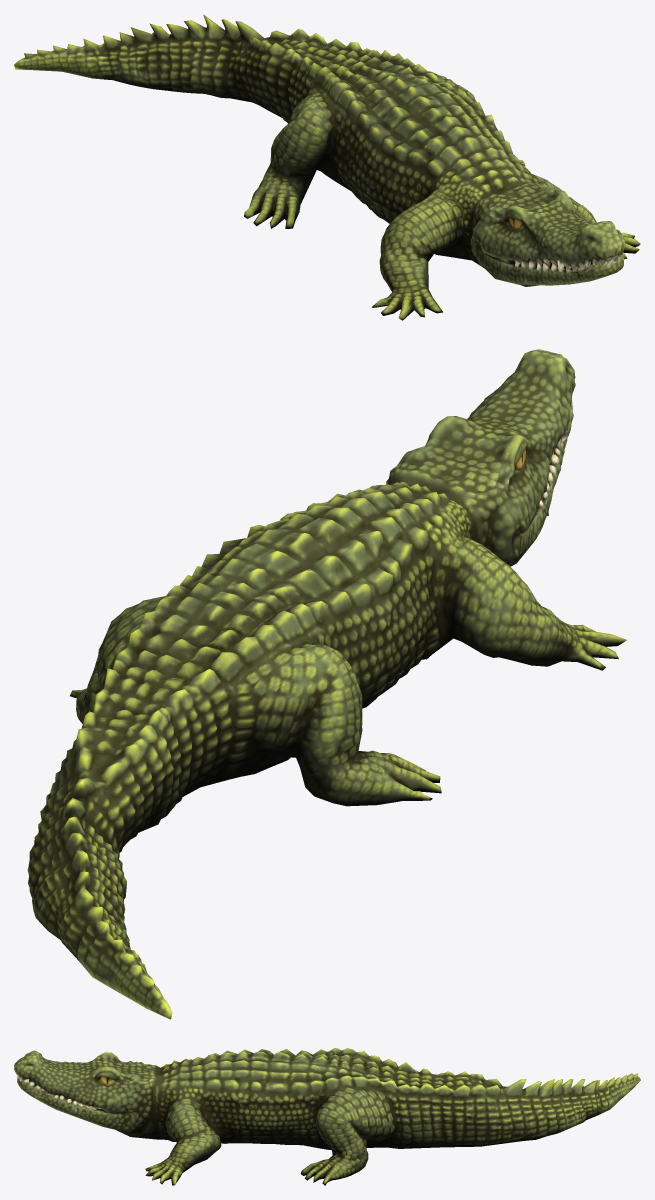
The model's file is MZ4250 - Crocodile.glb.
The picture shows the model from 3 angles, top to bottom: view 1: azimuth 30°, elevation 25°; view 2: azimuth 150°, elevation 25°; view 3: azimuth 270°, elevation 25°; orthographic projection. The views are drawn at different scales.
Visible parts, largest first — view 1: body_low.001; view 2: body_low.001; view 3: body_low.001.
Part boxes in pixels (<box>): body_low.001: <box>14,14,640,320</box>; body_low.001: <box>27,349,626,1019</box>; body_low.001: <box>14,1048,640,1185</box>.
Size of the model in its own units: 3.07 by 1.24 by 7.86.
1 material, 1 textured.
